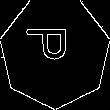P_E: (31, 34, 79, 71)
